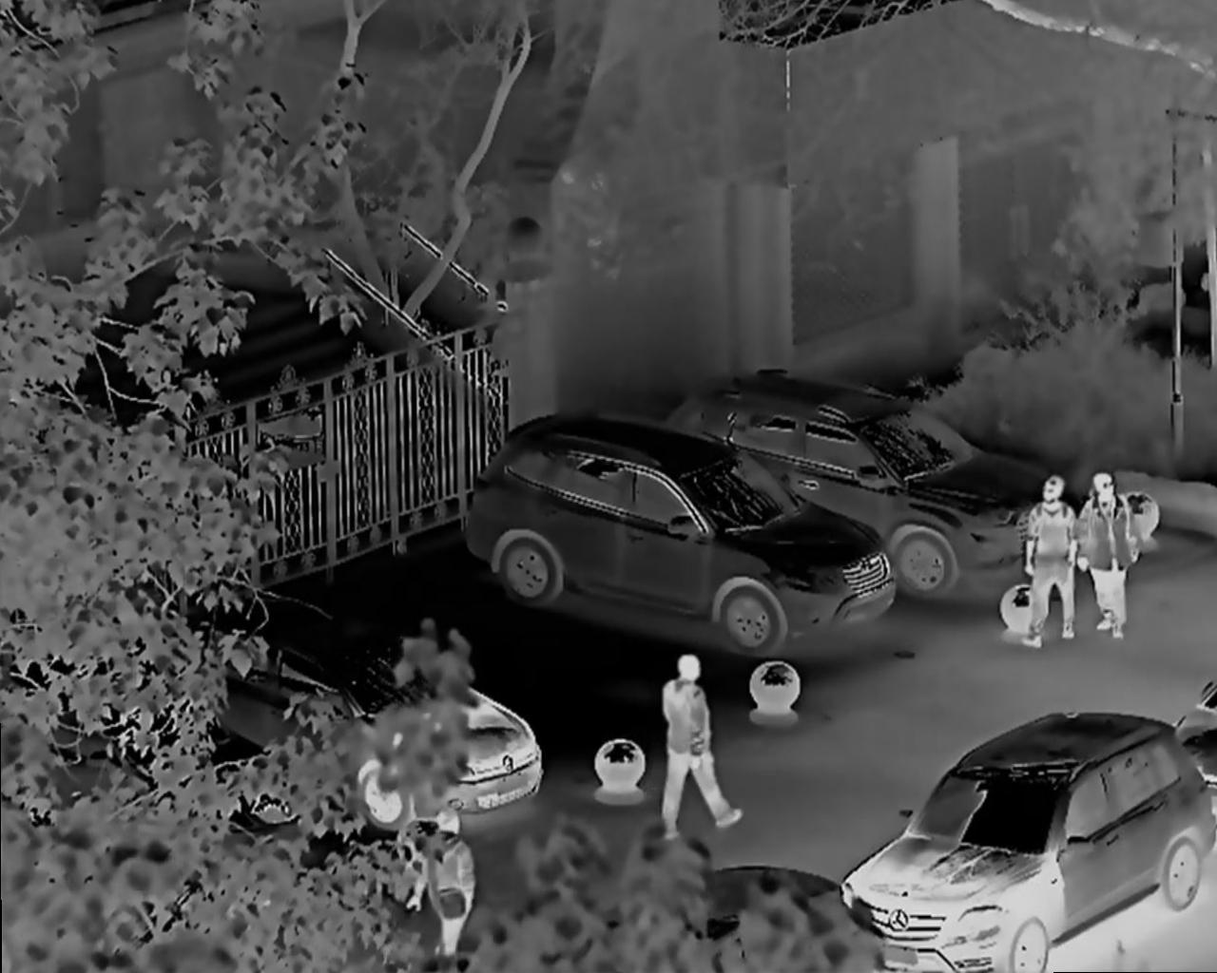person: (656, 650, 742, 830), (1079, 463, 1142, 640), (413, 801, 489, 947), (1021, 471, 1075, 631)
